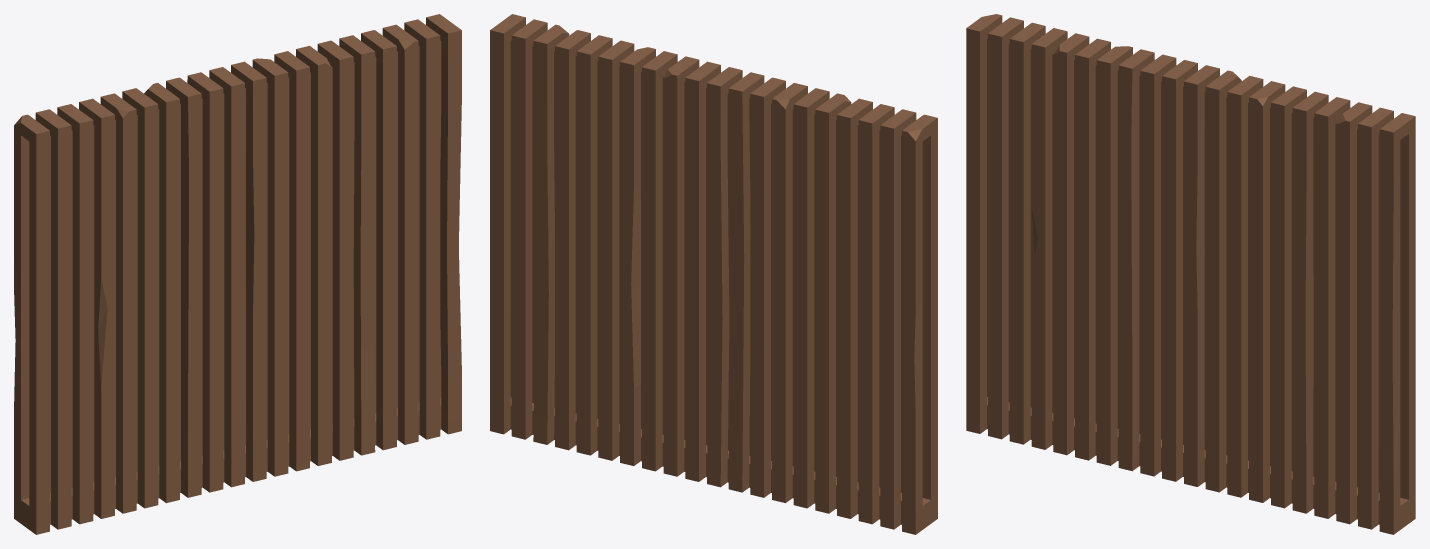
Rendered from SM_Bld_Wall_Feature_Short_01.obj.
The picture shows the model from 3 angles, left to right: view 1: azimuth 30°, elevation 25°; view 2: azimuth 150°, elevation 25°; view 3: azimuth 330°, elevation 25°; orthographic projection.
Visible parts, largest first — view 1: SM_Bld_Wall_Feature_Short_01_0; view 2: SM_Bld_Wall_Feature_Short_01_0; view 3: SM_Bld_Wall_Feature_Short_01_0.
Boxes of the visible parts, bbox=[...] form: SM_Bld_Wall_Feature_Short_01_0: bbox=[14, 14, 461, 534]; SM_Bld_Wall_Feature_Short_01_0: bbox=[490, 14, 937, 534]; SM_Bld_Wall_Feature_Short_01_0: bbox=[966, 14, 1415, 534].
Size of the model in its own units: 2.5 by 2.25 by 0.225.
1 material, 1 textured.
